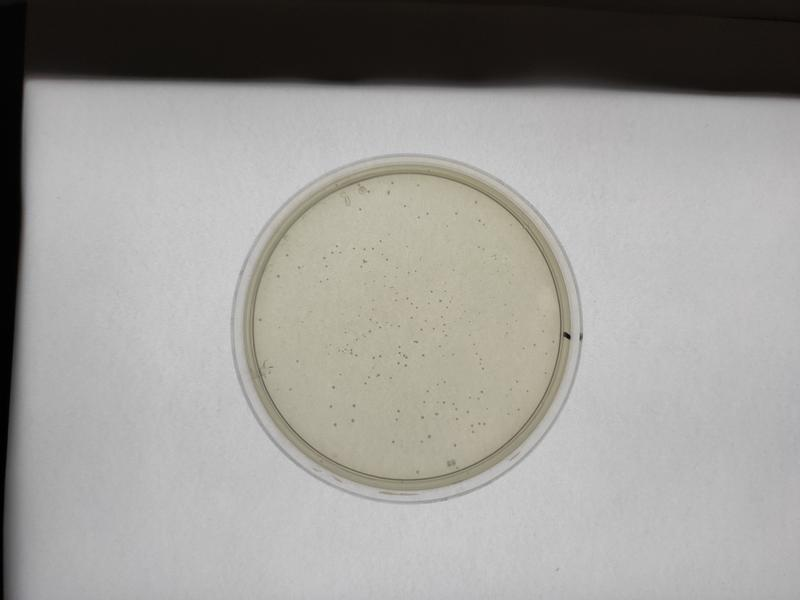colony: (499, 299, 511, 309), (327, 382, 337, 393), (292, 356, 303, 366), (285, 384, 296, 394), (329, 418, 339, 429), (347, 415, 357, 426), (349, 399, 359, 410), (282, 249, 292, 259), (354, 204, 364, 214), (387, 437, 399, 445), (418, 412, 427, 422), (413, 465, 421, 476), (326, 402, 334, 412), (273, 271, 281, 280), (452, 209, 459, 218), (400, 203, 409, 209)
